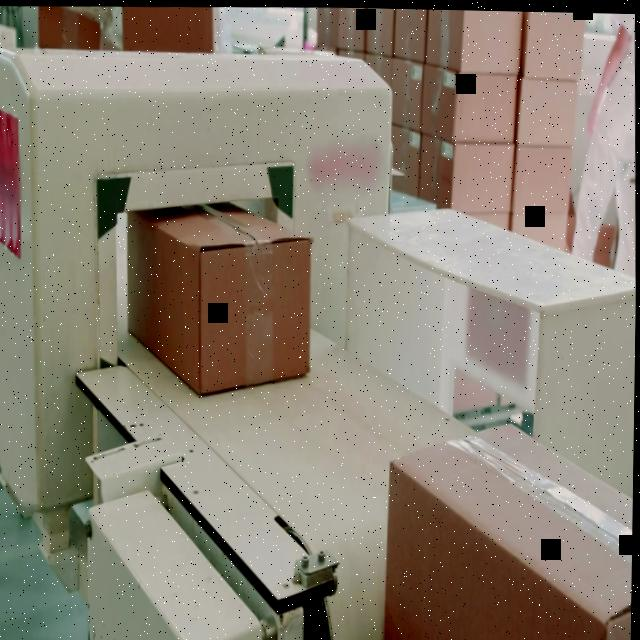box: (380, 418, 635, 640), (126, 191, 317, 397), (32, 5, 114, 51)
